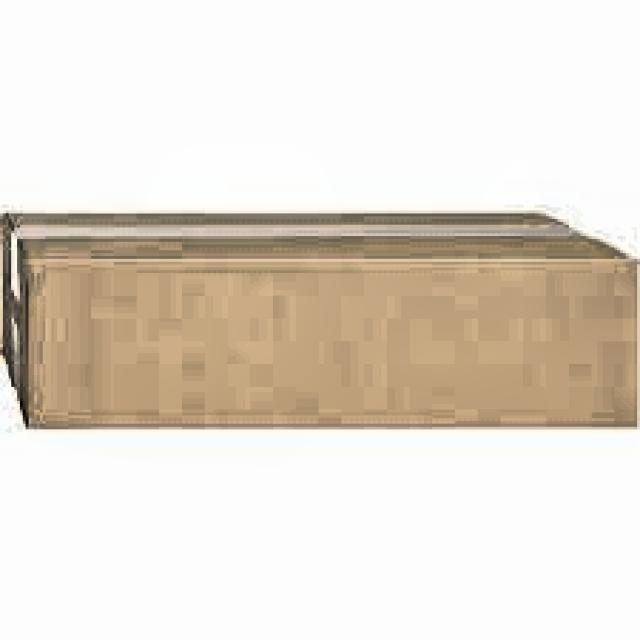cardboard: (0, 208, 637, 430)
